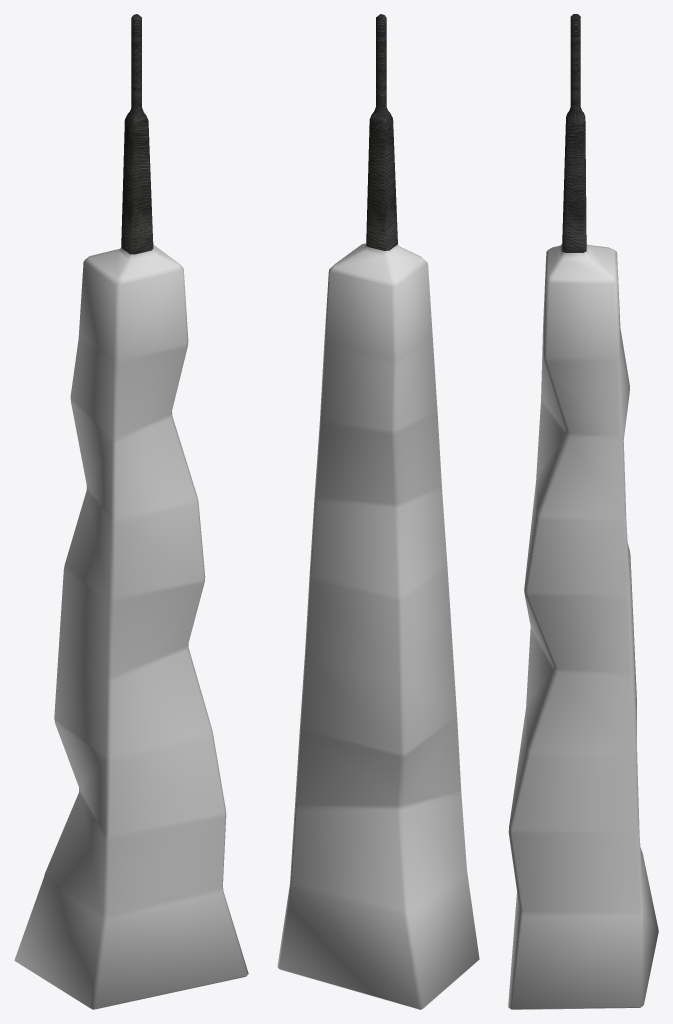
Rendered from TheOneWorldSkyTower.glb.
The picture shows the model from 3 angles, left to right: view 1: azimuth 30°, elevation 25°; view 2: azimuth 150°, elevation 25°; view 3: azimuth 270°, elevation 25°; orthographic projection.
Visible parts, largest first — view 1: Tower; view 2: Tower; view 3: Tower.
Part boxes in pixels (x1,y1,x2,y2): Tower: [14, 14, 248, 1009]; Tower: [277, 14, 479, 1009]; Tower: [508, 14, 658, 1009].
Bounding box in the file's own units: 56.93 × 321 × 45.73.
2 materials, 1 textured.
